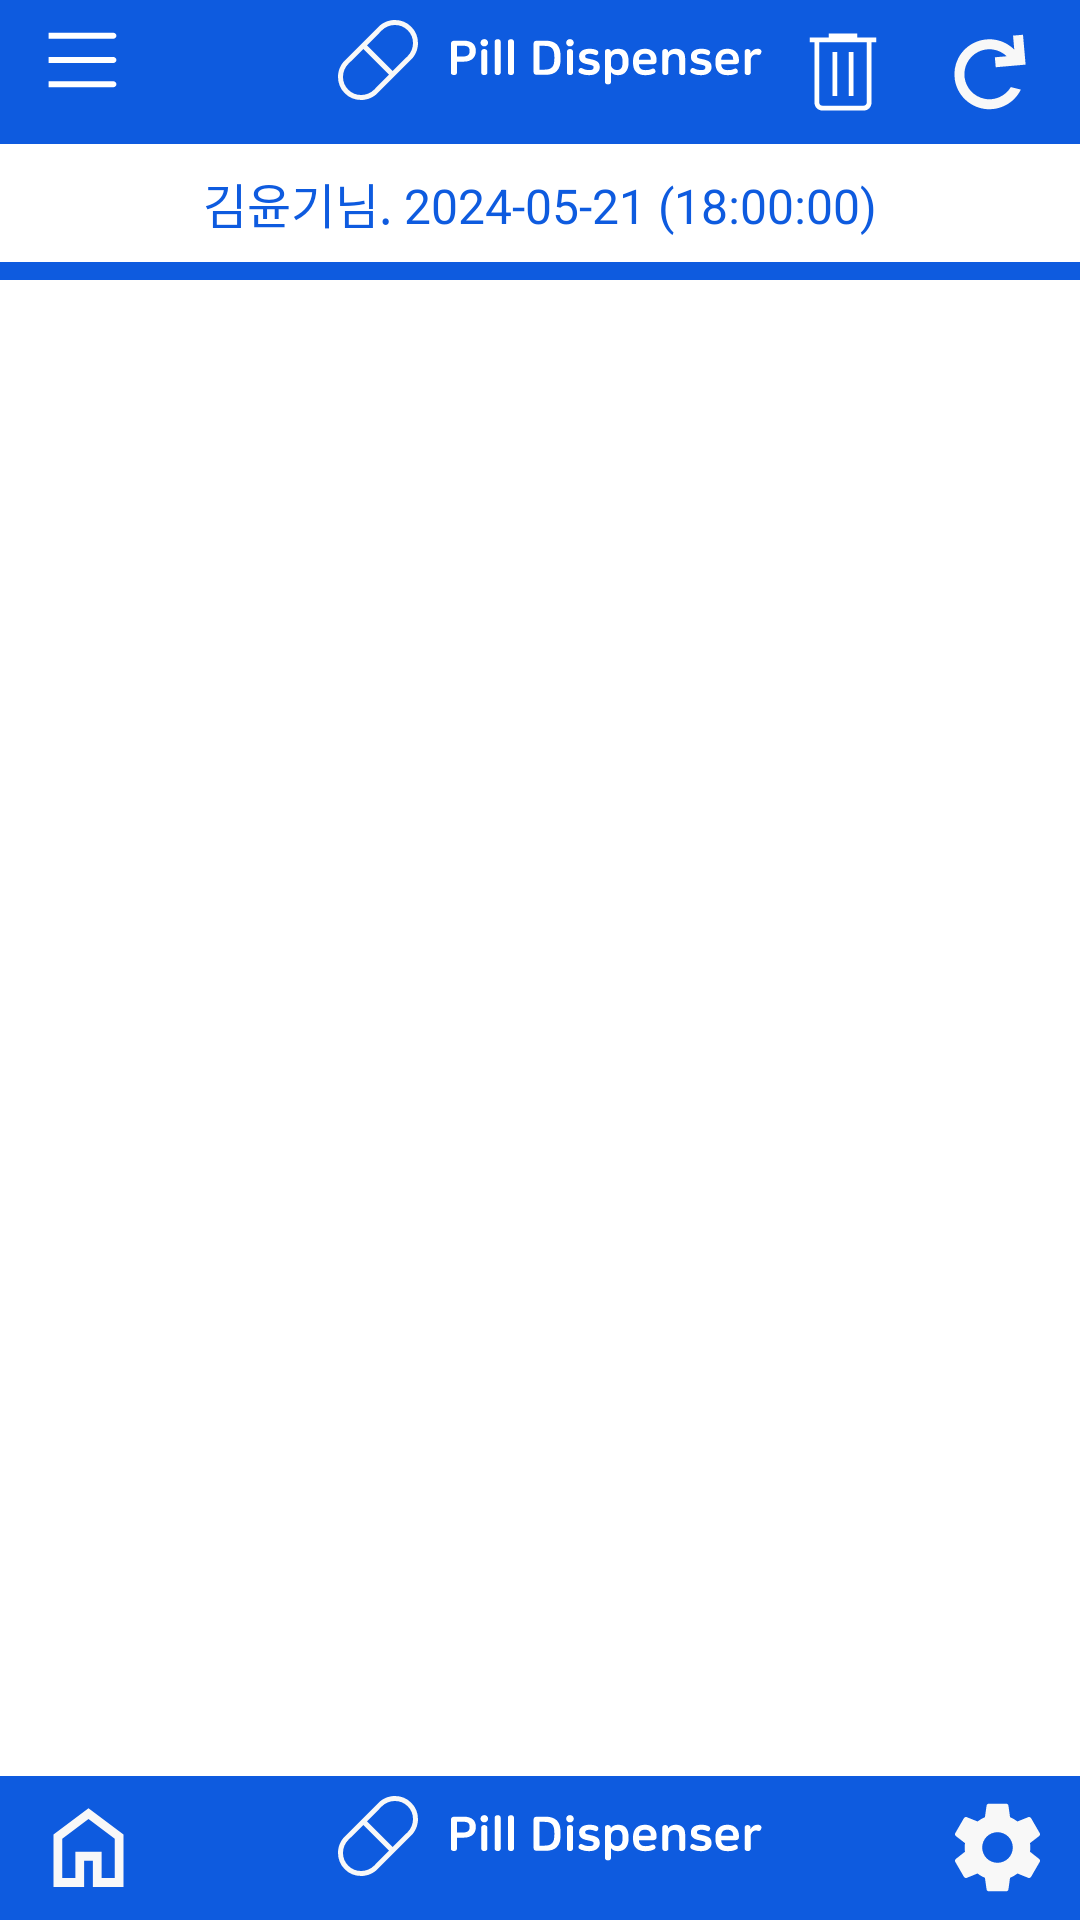

Icon click points for this 1080px×1920px phone screenshot, format (x,y):
gear: (997,1847)
hamberger: (82,60)
home: (88,1847)
symbols delete: (843,72)
